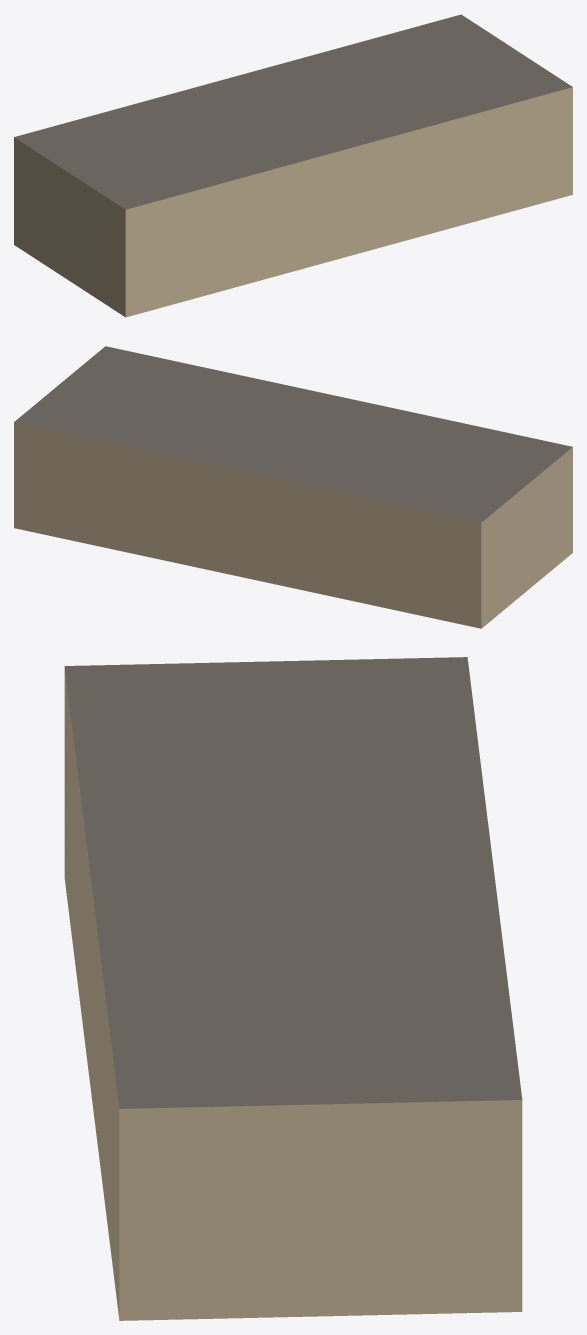
3 views of the same model, one above another, from view 1: azimuth 30°, elevation 25°; view 2: azimuth 150°, elevation 25°; view 3: azimuth 270°, elevation 25° (orthographic). The views are drawn at different scales.
Parts seen in each view (by area): view 1: HP-w1333613411; view 2: HP-w1333613411; view 3: HP-w1333613411.
Part boxes in pixels (bbox=[...]): HP-w1333613411: bbox=[14, 14, 572, 317]; HP-w1333613411: bbox=[14, 346, 572, 628]; HP-w1333613411: bbox=[64, 657, 522, 1320].
Size of the model in its own units: 60.34 by 13.2 by 25.83.
